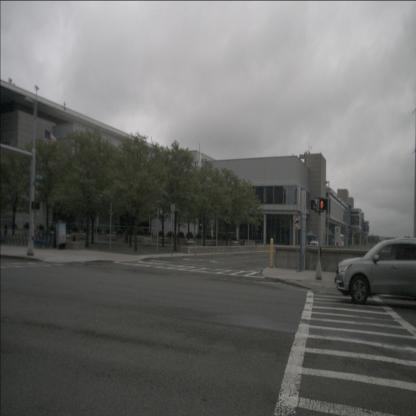vehicle-car: (336, 237, 416, 306)
